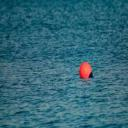red: (80, 62, 92, 79)
